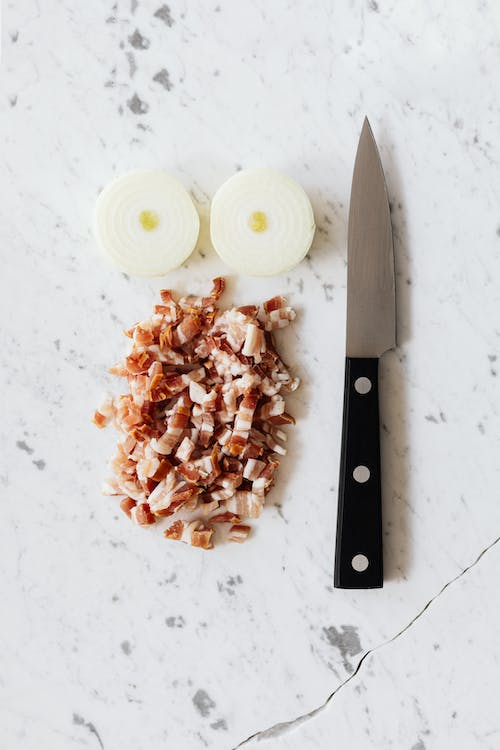knife: (331, 114, 399, 591)
